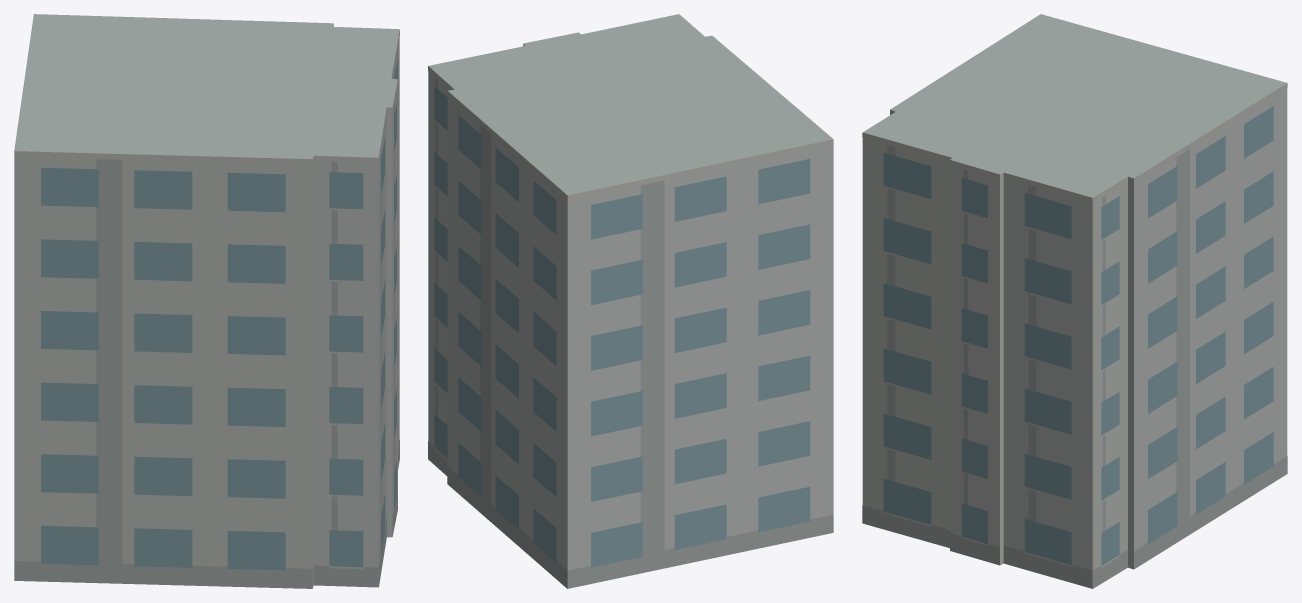
The model's file is survey-upis-32890860.glb.
3 views of the same model, side by side, from view 1: azimuth 30°, elevation 25°; view 2: azimuth 150°, elevation 25°; view 3: azimuth 270°, elevation 25° (orthographic). The views are drawn at different scales.
Visible parts, largest first — view 1: survey-upis-32890860.tmp; view 2: survey-upis-32890860.tmp; view 3: survey-upis-32890860.tmp.
Boxes of the visible parts, x1,y1,x2,y2 form: survey-upis-32890860.tmp: (14, 14, 399, 588); survey-upis-32890860.tmp: (428, 14, 833, 588); survey-upis-32890860.tmp: (862, 14, 1287, 588).
Bounding box in the file's own units: 18.12 × 17.95 × 17.69.
